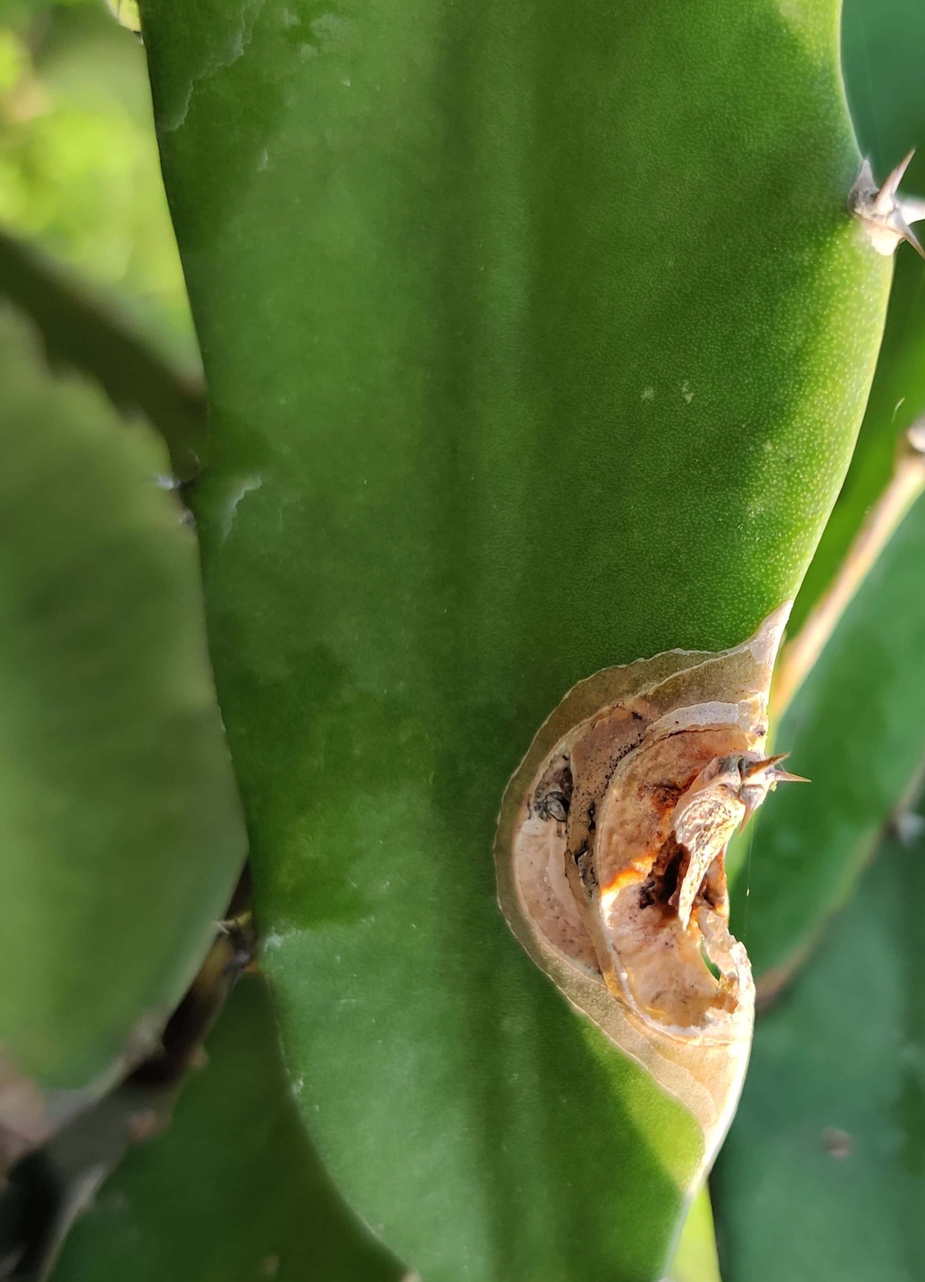stemcanker: (493, 635, 788, 1128)
